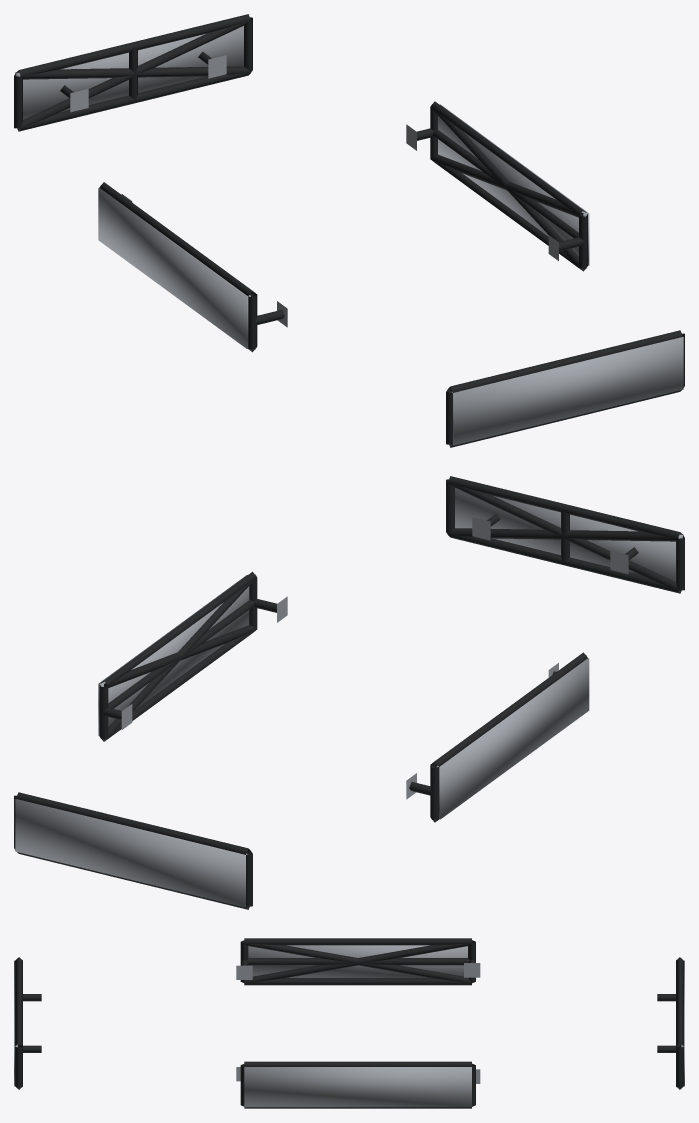
Rendered from mizuchi_lampejo_protecao.glb.
3 renders of one model, top to bottom at view 1: azimuth 30°, elevation 25°; view 2: azimuth 150°, elevation 25°; view 3: azimuth 270°, elevation 25°, orthographic. The views are drawn at different scales.
Visible parts, largest first — view 1: Protection_front_Level3_Details, Protection_left_Level3_Details, Protection_rear_Level1_Details, Protection_rear_Level3_Details, Protection_right_Level1_Details, Protection_rear_Level2_Details, Protection_right_Level2_Details, Protection_right_Level3_Details, Protection_front_Level1_Details, Protection_left_Level1_Details; view 2: Protection_rear_Level3_Details, Protection_left_Level3_Details, Protection_front_Level1_Details, Protection_front_Level3_Details, Protection_right_Level1_Details, Protection_front_Level2_Details, Protection_right_Level2_Details, Protection_right_Level3_Details, Protection_rear_Level1_Details, Protection_left_Level1_Details; view 3: Protection_right_Level3_Details, Protection_left_Level2_Details, Protection_left_Level1_Details, Protection_left_Level3_Details, Protection_right_Level1_Details, Protection_rear_Level1_Details, Protection_front_Level1_Details.
Boxes of the visible parts, x1=… form: Protection_front_Level3_Details: x1=451, y1=337, x2=683, y2=445; Protection_left_Level3_Details: x1=98, y1=187, x2=250, y2=348; Protection_rear_Level1_Details: x1=14, y1=14, x2=252, y2=131; Protection_rear_Level3_Details: x1=15, y1=26, x2=243, y2=119; Protection_right_Level1_Details: x1=406, y1=101, x2=587, y2=271; Protection_rear_Level2_Details: x1=16, y1=20, x2=250, y2=130; Protection_right_Level2_Details: x1=430, y1=107, x2=586, y2=270; Protection_right_Level3_Details: x1=438, y1=104, x2=589, y2=265; Protection_front_Level1_Details: x1=446, y1=330, x2=684, y2=447; Protection_left_Level1_Details: x1=99, y1=182, x2=287, y2=352; Protection_rear_Level3_Details: x1=15, y1=799, x2=247, y2=907; Protection_left_Level3_Details: x1=436, y1=658, x2=589, y2=819; Protection_front_Level1_Details: x1=446, y1=476, x2=684, y2=593; Protection_front_Level3_Details: x1=455, y1=488, x2=683, y2=581; Protection_right_Level1_Details: x1=99, y1=571, x2=287, y2=741; Protection_front_Level2_Details: x1=448, y1=482, x2=682, y2=592; Protection_right_Level2_Details: x1=100, y1=578, x2=256, y2=741; Protection_right_Level3_Details: x1=98, y1=575, x2=249, y2=735; Protection_rear_Level1_Details: x1=14, y1=792, x2=252, y2=909; Protection_left_Level1_Details: x1=406, y1=652, x2=587, y2=822; Protection_right_Level3_Details: x1=244, y1=1067, x2=471, y2=1107; Protection_left_Level2_Details: x1=244, y1=940, x2=472, y2=983; Protection_left_Level1_Details: x1=236, y1=938, x2=480, y2=985; Protection_left_Level3_Details: x1=248, y1=945, x2=467, y2=977; Protection_right_Level1_Details: x1=236, y1=1061, x2=480, y2=1108; Protection_rear_Level1_Details: x1=657, y1=957, x2=683, y2=1089; Protection_front_Level1_Details: x1=15, y1=957, x2=41, y2=1089.
Bounding box in the file's own units: 2.06 × 0.354 × 4.57.
1 material, 1 textured.
